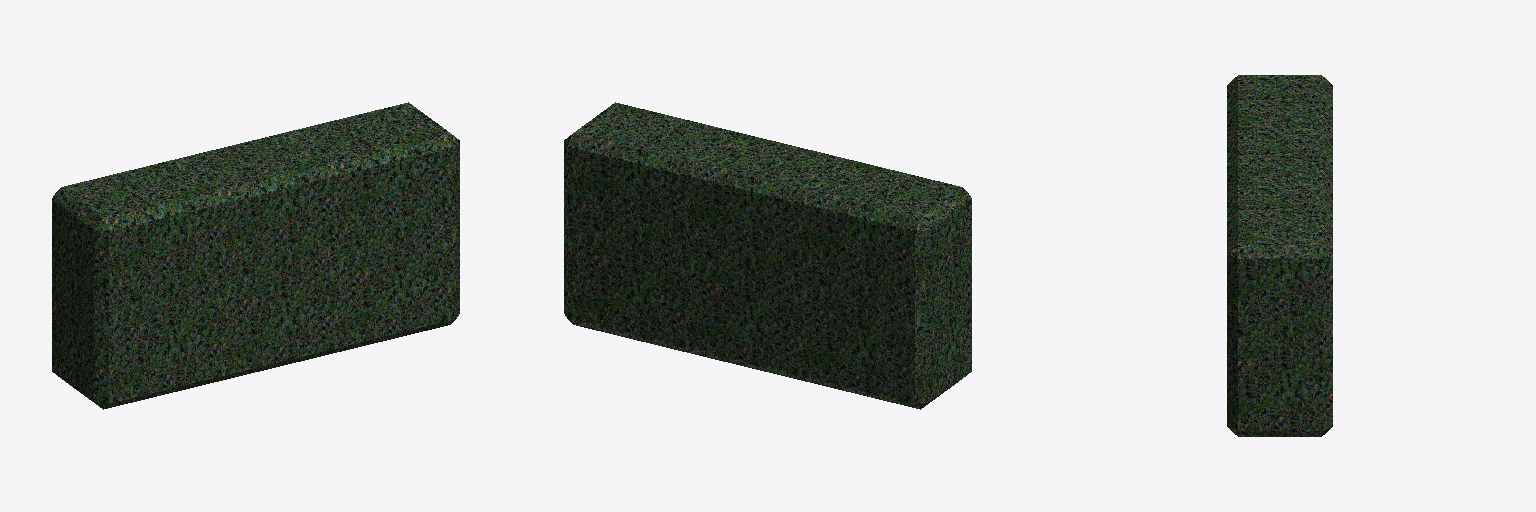
The picture shows the model from 3 angles: view 1: azimuth 30°, elevation 25°; view 2: azimuth 150°, elevation 25°; view 3: azimuth 270°, elevation 25°; orthographic projection.
Parts seen in each view (by area): view 1: material_0; view 2: material_0; view 3: material_0.
Part boxes in pixels (x1,y1,x2,y2): material_0: (52, 102, 459, 409); material_0: (564, 102, 971, 409); material_0: (1227, 75, 1332, 436).
Size of the model in its own units: 8 by 4 by 2.
Materials: 1 (1 with a texture image).